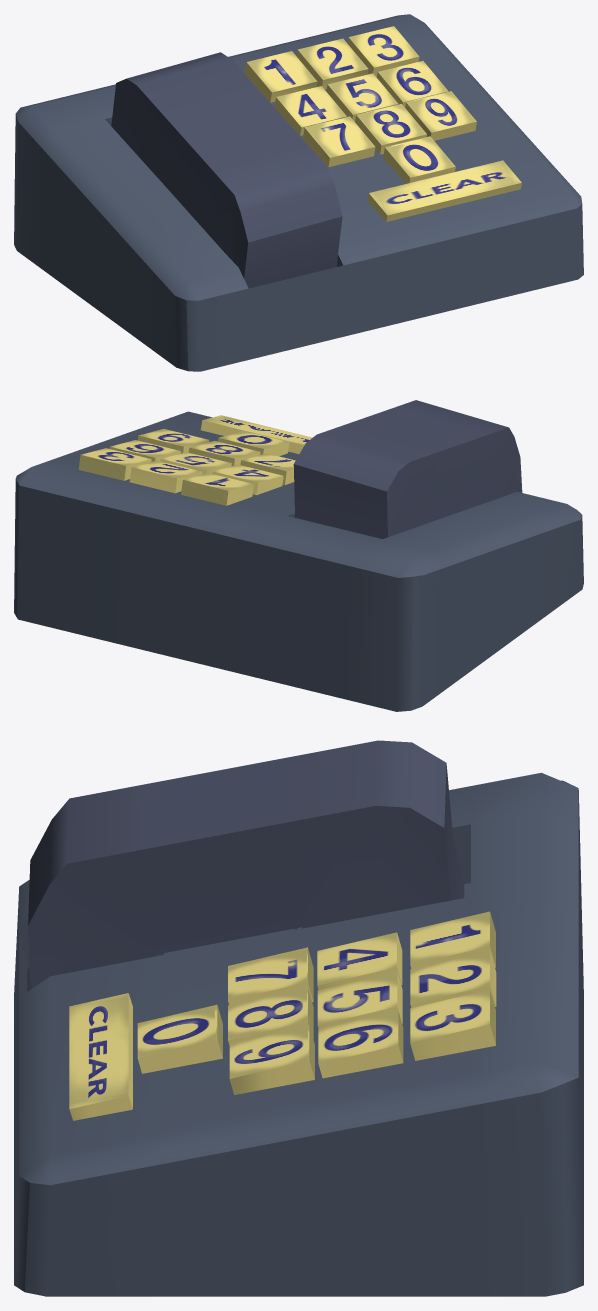
Rendered from phone 1.fbx.
3 renders of one model, top to bottom at view 1: azimuth 30°, elevation 25°; view 2: azimuth 150°, elevation 25°; view 3: azimuth 270°, elevation 25°, orthographic. The views are drawn at different scales.
Visible parts, largest first — view 1: phoneBase, phoneHandset, phoneButtonClear, phoneButton7, phoneButton1, phoneButton9, phoneButton0, phoneButton2, phoneButton3, phoneButton8, phoneButton4, phoneButton5 (+1 smaller); view 2: phoneBase, phoneHandset, phoneButton1, phoneButtonClear, phoneButton2, phoneButton3, phoneButton4, phoneButton0, phoneButton8, phoneButton9, phoneButton7, phoneButton5 (+1 smaller); view 3: phoneBase, phoneHandset, phoneButtonClear, phoneButton3, phoneButton9, phoneButton0, phoneButton6, phoneButton7, phoneButton4, phoneButton2, phoneButton1, phoneButton5 (+1 smaller).
Boxes of the visible parts, box(x1,y1,x2,y2) form: phoneBase: box(14, 14, 583, 371); phoneHandset: box(111, 52, 342, 288); phoneButtonClear: box(367, 160, 521, 221); phoneButton7: box(302, 116, 375, 167); phoneButton1: box(244, 51, 317, 102); phoneButton9: box(405, 91, 476, 140); phoneButton0: box(383, 136, 455, 183); phoneButton2: box(296, 38, 368, 89); phoneButton3: box(347, 26, 419, 76); phoneButton8: box(355, 104, 426, 154); phoneButton4: box(274, 86, 346, 135); phoneButton5: box(326, 73, 398, 121); phoneBase: box(14, 411, 583, 711); phoneHandset: box(293, 400, 522, 538); phoneButton1: box(181, 473, 253, 505); phoneButtonClear: box(201, 415, 312, 453); phoneButton2: box(129, 460, 202, 493); phoneButton3: box(78, 448, 151, 480); phoneButton4: box(212, 464, 283, 495); phoneButton0: box(218, 431, 289, 456); phoneButton8: box(188, 441, 260, 465); phoneButton9: box(137, 429, 209, 453); phoneButton7: box(240, 453, 295, 485); phoneButton5: box(160, 452, 231, 474); phoneBase: box(14, 772, 583, 1296); phoneHandset: box(28, 740, 464, 988); phoneButtonClear: box(69, 993, 132, 1120); phoneButton3: box(410, 989, 495, 1060); phoneButton9: box(229, 1025, 314, 1094); phoneButton0: box(137, 1004, 222, 1073); phoneButton6: box(318, 1010, 403, 1078); phoneButton7: box(228, 947, 313, 1004); phoneButton4: box(317, 932, 402, 989); phoneButton2: box(410, 950, 496, 1007); phoneButton1: box(410, 911, 495, 968); phoneButton5: box(317, 972, 402, 1028).
Size of the model in its own units: 41.18 by 18.64 by 31.88.
Materials: 13 (11 with a texture image).
